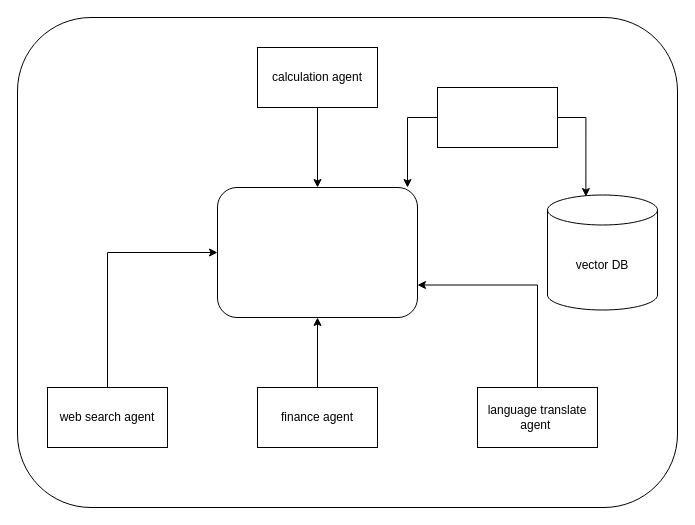
This 695x525 diagram has some shape labels left out. Each missing label, with the centre of its shape:
"Data Base search agent" belongs at pixel 497 117.
"LLAMA 3.1" belongs at pixel 317 252.
